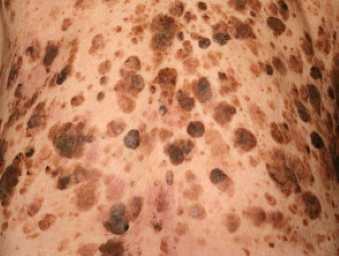seborrheic keratosis: (40, 14, 287, 235)
